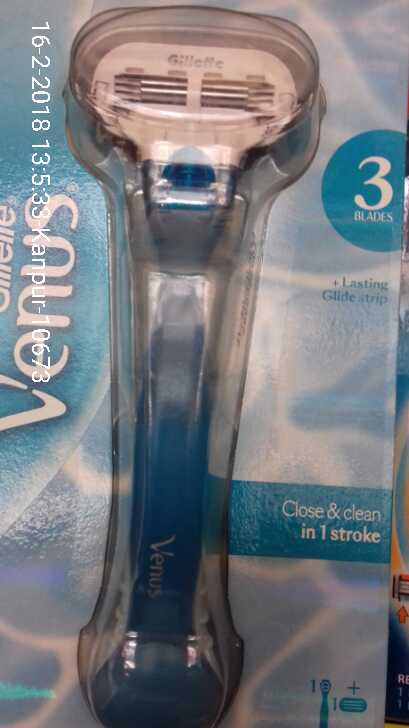venus: (51, 12, 328, 728)
